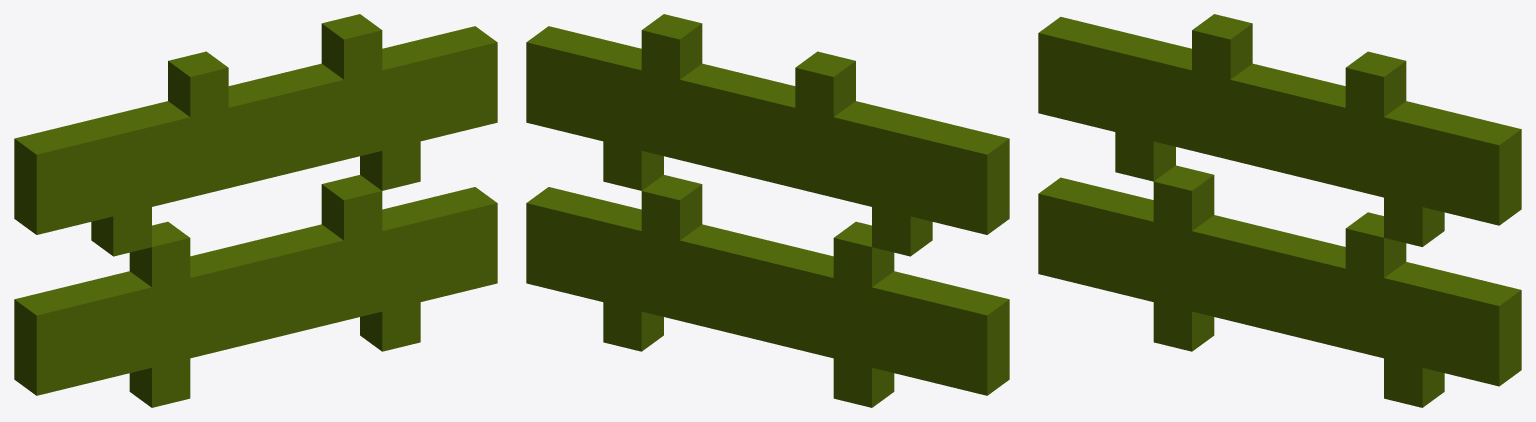
The model's file is MazeTan2Stairs-2.vox.obj.
3 renders of one model, left to right at view 1: azimuth 30°, elevation 25°; view 2: azimuth 150°, elevation 25°; view 3: azimuth 330°, elevation 25°, orthographic.
Bounding box in the file's own units: 1.2 × 0.8 × 0.1.
1 material, 1 textured.
